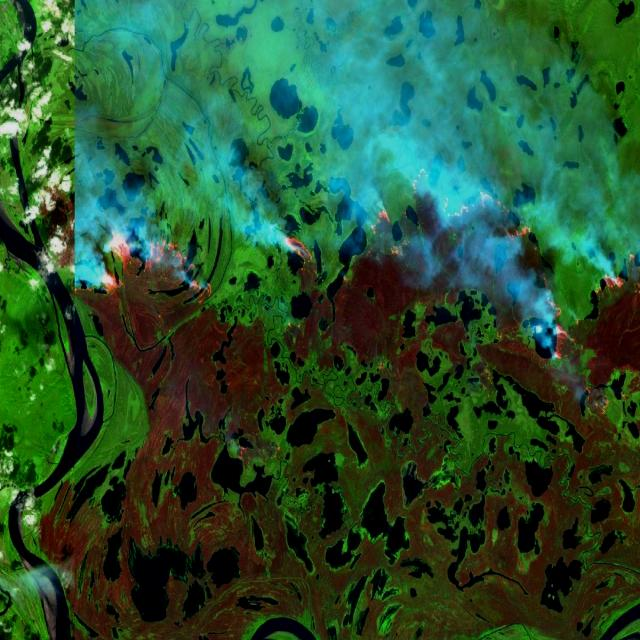fire: (74, 152, 640, 417)
